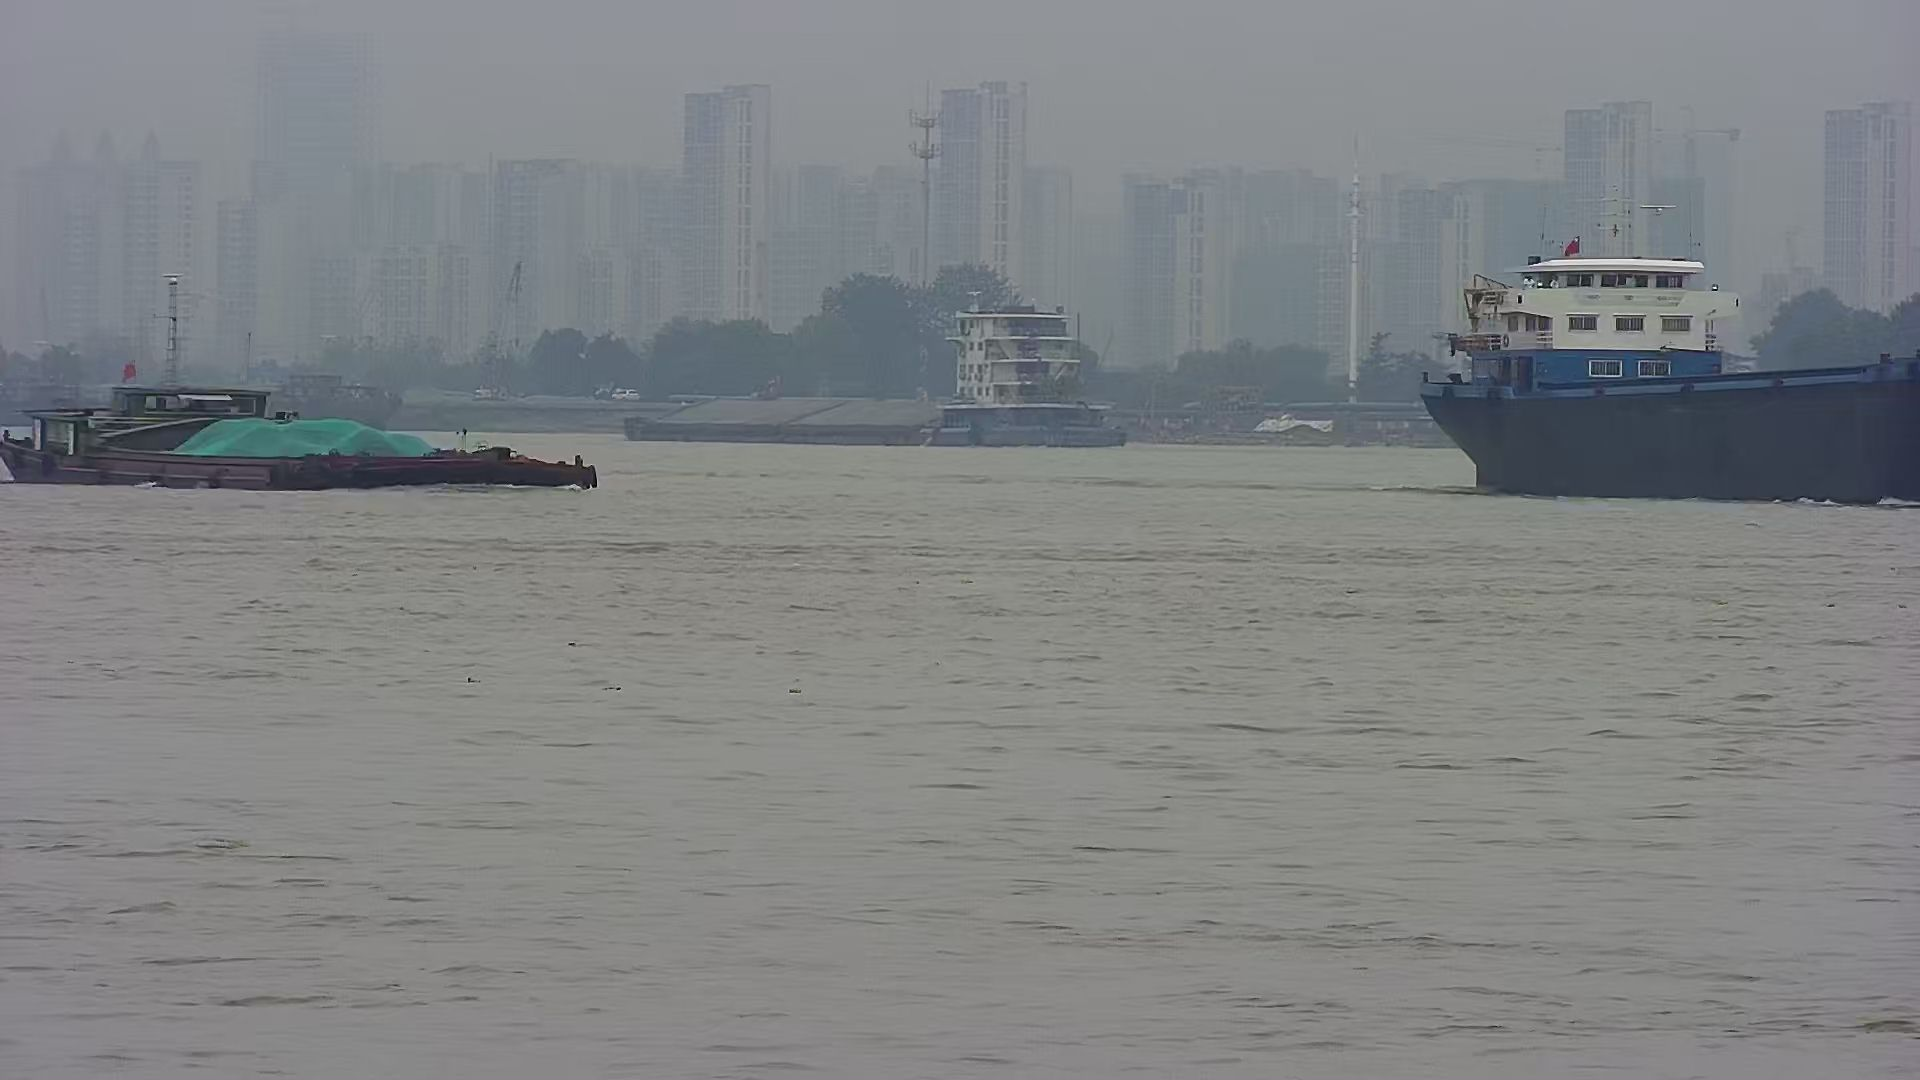ship: (1398, 220, 1920, 504), (616, 280, 1151, 465), (1, 342, 624, 498)
